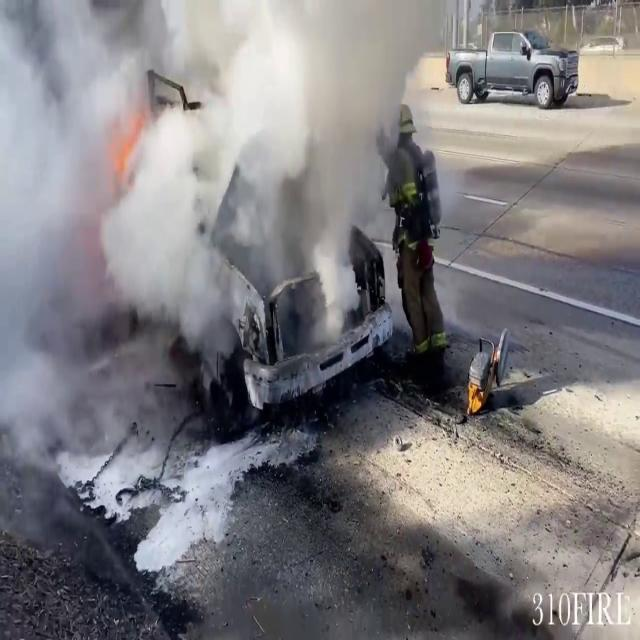Smoke: (0, 0, 440, 360)
